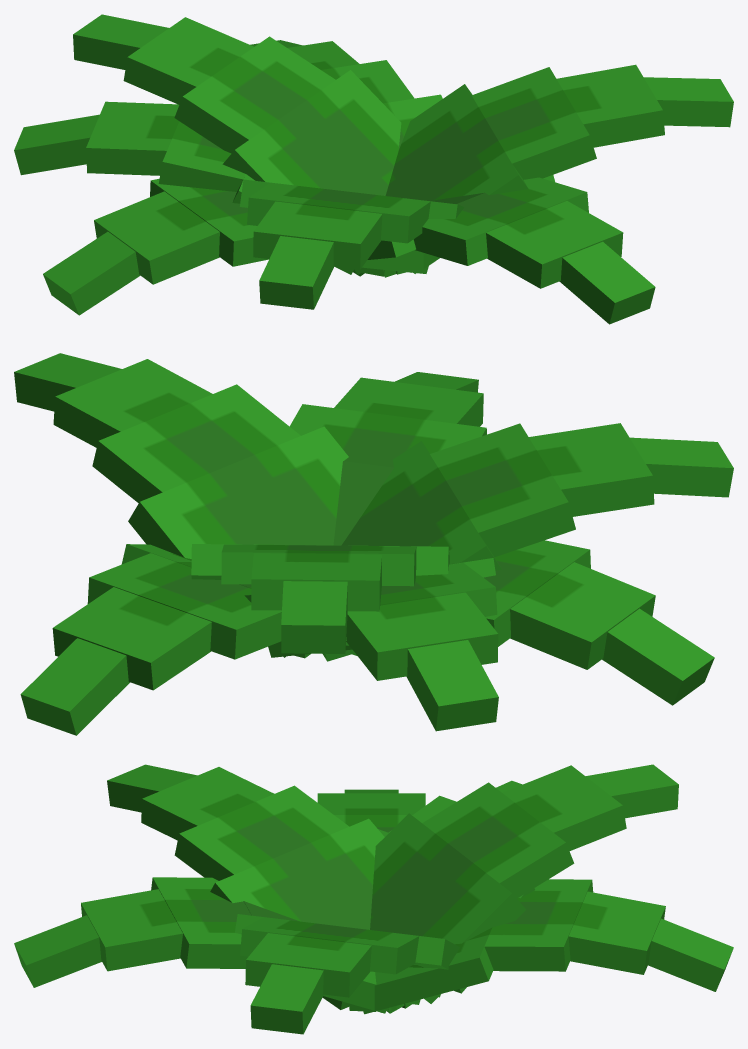
The model's file is Bush.fbx.
The picture shows the model from 3 angles, top to bottom: view 1: azimuth 30°, elevation 25°; view 2: azimuth 150°, elevation 25°; view 3: azimuth 270°, elevation 25°; orthographic projection. The views are drawn at different scales.
Visible parts, largest first — view 1: Cube.001, Cube.004, Cube.003, Cube, Cube.002, Cube.005, Cube.006; view 2: Cube.004, Cube.002, Cube.006, Cube, Cube.005, Cube.001, Cube.003; view 3: Cube.001, Cube.002, Cube.006, Cube.003, Cube.004, Cube, Cube.005.
Part boxes in pixels (<box>): Cube.001: <box>73,14,401,276</box>; Cube.004: <box>383,64,733,277</box>; Cube.003: <box>367,175,655,324</box>; Cube: <box>43,178,428,315</box>; Cube.002: <box>239,179,463,309</box>; Cube.005: <box>14,101,384,276</box>; Cube.006: <box>250,40,442,149</box>; Cube.004: <box>14,353,348,558</box>; Cube.002: <box>322,423,733,661</box>; Cube.006: <box>20,544,348,735</box>; Cube: <box>268,540,714,705</box>; Cube.005: <box>244,558,498,731</box>; Cube.001: <box>191,544,449,653</box>; Cube.003: <box>289,372,486,545</box>; Cube.001: <box>370,764,678,1013</box>; Cube.002: <box>107,764,384,1009</box>; Cube.006: <box>349,879,733,1014</box>; Cube.003: <box>14,877,396,1013</box>; Cube.004: <box>235,914,459,1034</box>; Cube: <box>317,789,425,832</box>; Cube.005: <box>378,780,534,1008</box>.
Size of the model in its own units: 522 by 127 by 533.
